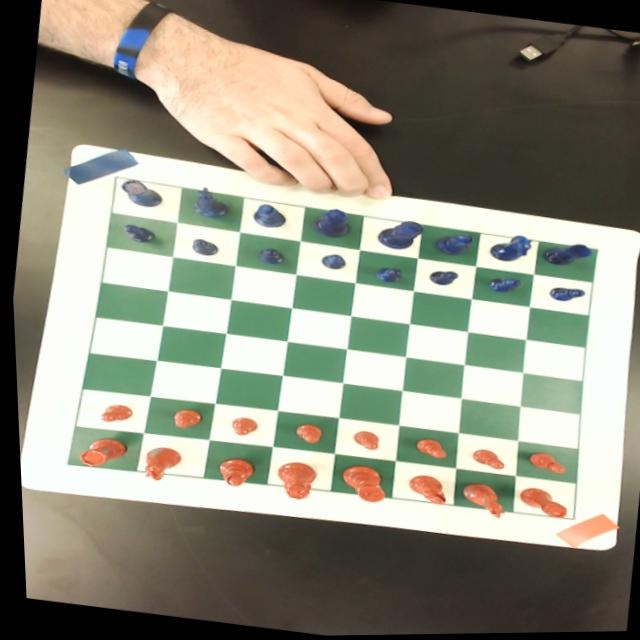B: (431, 231, 473, 258), (249, 201, 288, 230)
K: (374, 217, 424, 254)
N: (486, 231, 532, 266), (189, 185, 230, 220)
P: (484, 274, 521, 297), (118, 222, 155, 245), (546, 285, 584, 306), (187, 236, 220, 258), (425, 269, 460, 289), (255, 245, 285, 268), (372, 264, 403, 285), (317, 253, 346, 272)
Q: (309, 206, 352, 240)
R: (118, 175, 165, 210), (540, 240, 592, 270)
b: (400, 473, 445, 507), (209, 455, 253, 489)
k: (333, 462, 385, 505)
n: (454, 481, 504, 523), (137, 443, 181, 483)
p: (522, 451, 563, 476), (409, 437, 446, 461), (466, 448, 504, 471), (95, 401, 131, 425), (168, 406, 201, 431), (225, 414, 257, 439), (290, 422, 321, 445), (348, 429, 378, 452)
q: (269, 460, 316, 502)
r: (72, 433, 126, 472), (513, 486, 565, 521)
